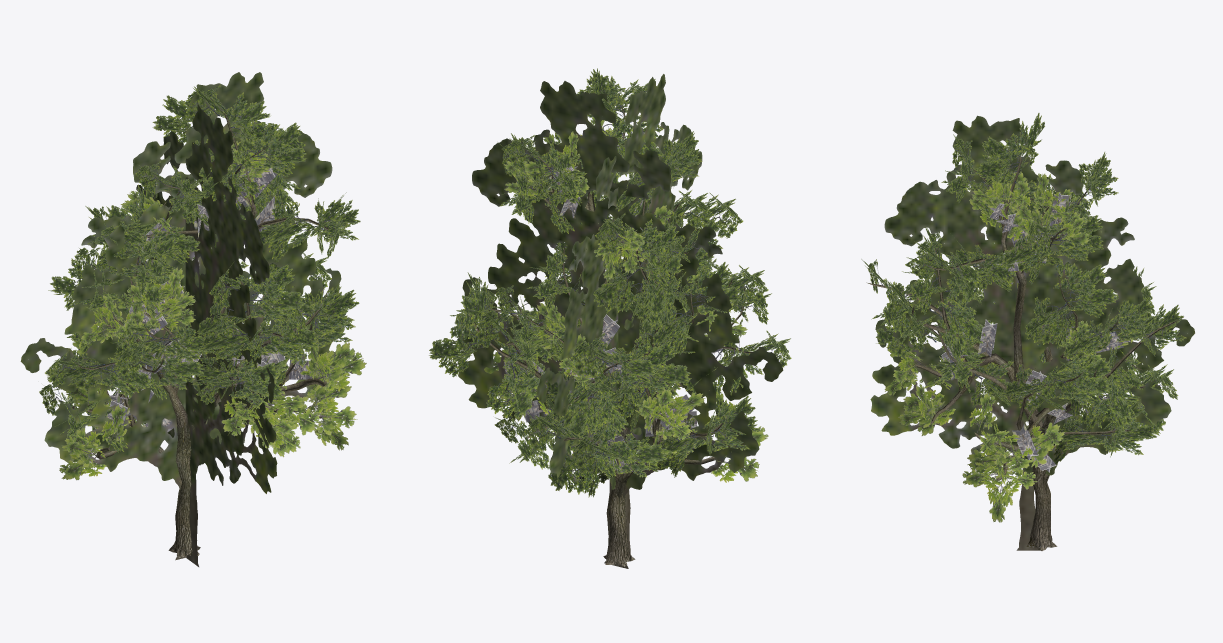
Rendered from Tree-Oak3A.fbx.
The picture shows the model from 3 angles, left to right: view 1: azimuth 30°, elevation 25°; view 2: azimuth 150°, elevation 25°; view 3: azimuth 270°, elevation 25°; orthographic projection. The views are drawn at different scales.
Parts seen in each view (by area): view 1: Tree-Oak3A_LOD0, Billboard-Oak3A; view 2: Tree-Oak3A_LOD0, Billboard-Oak3A; view 3: Tree-Oak3A_LOD0, Billboard-Oak3A.
Boxes of the visible parts, x1,y1,x2,y2 form: Tree-Oak3A_LOD0: [39, 84, 366, 557]; Billboard-Oak3A: [20, 72, 344, 566]; Tree-Oak3A_LOD0: [429, 68, 791, 566]; Billboard-Oak3A: [458, 74, 783, 568]; Tree-Oak3A_LOD0: [861, 113, 1186, 550]; Billboard-Oak3A: [870, 115, 1194, 550].
Size of what is drawn, in the model's own units: 2603 by 3562 by 2584.
